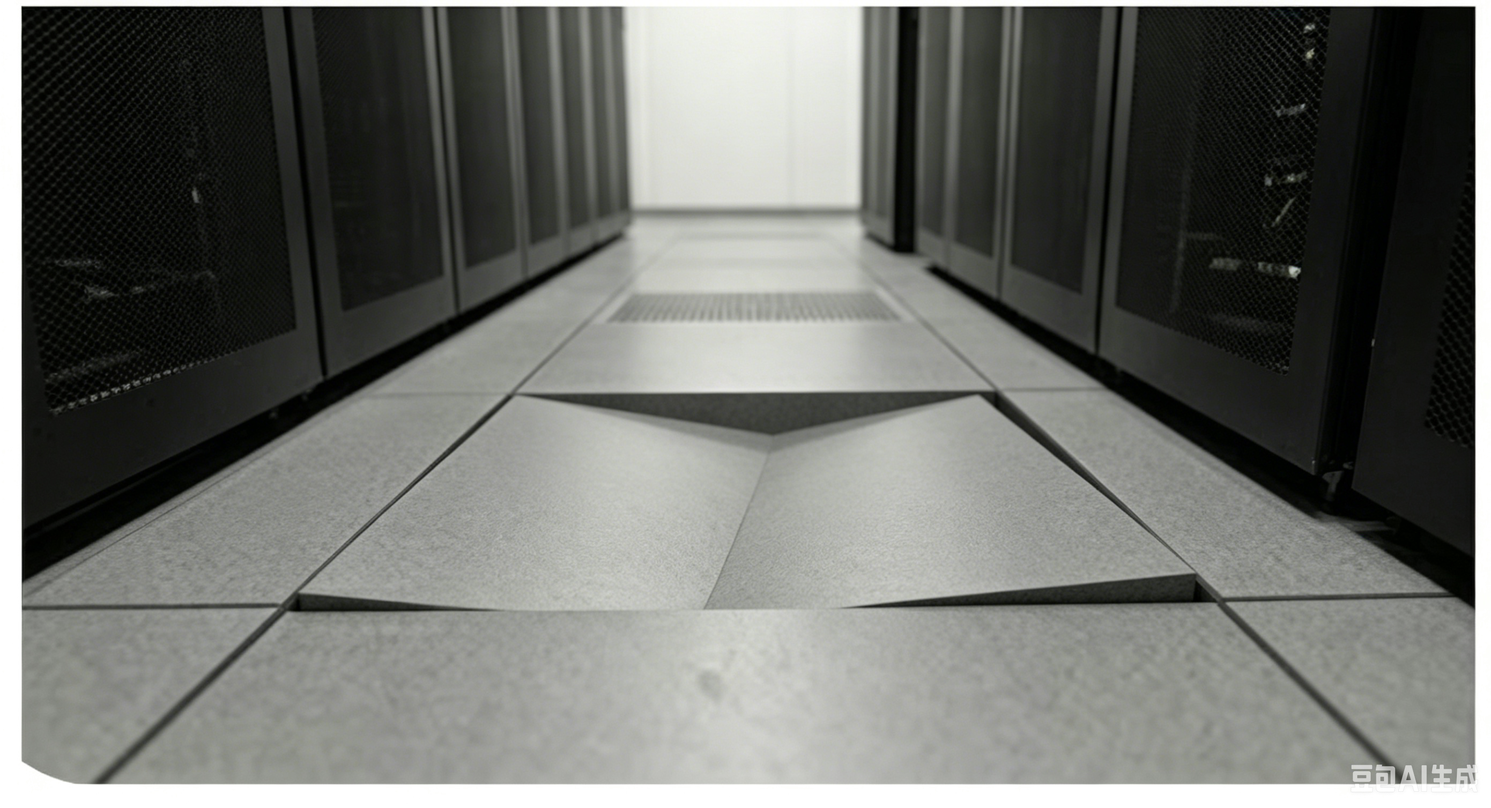floor_defect: (278, 384, 1216, 616)
